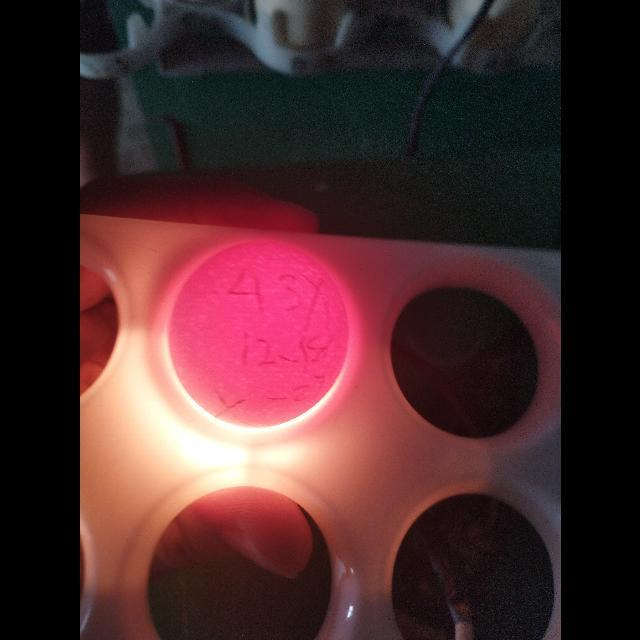Infertile: (162, 238, 352, 428)
